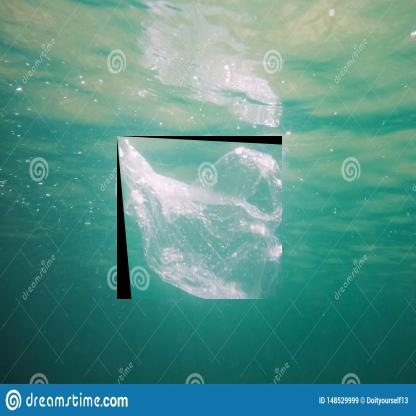plastic-bag: (117, 136, 283, 300)
